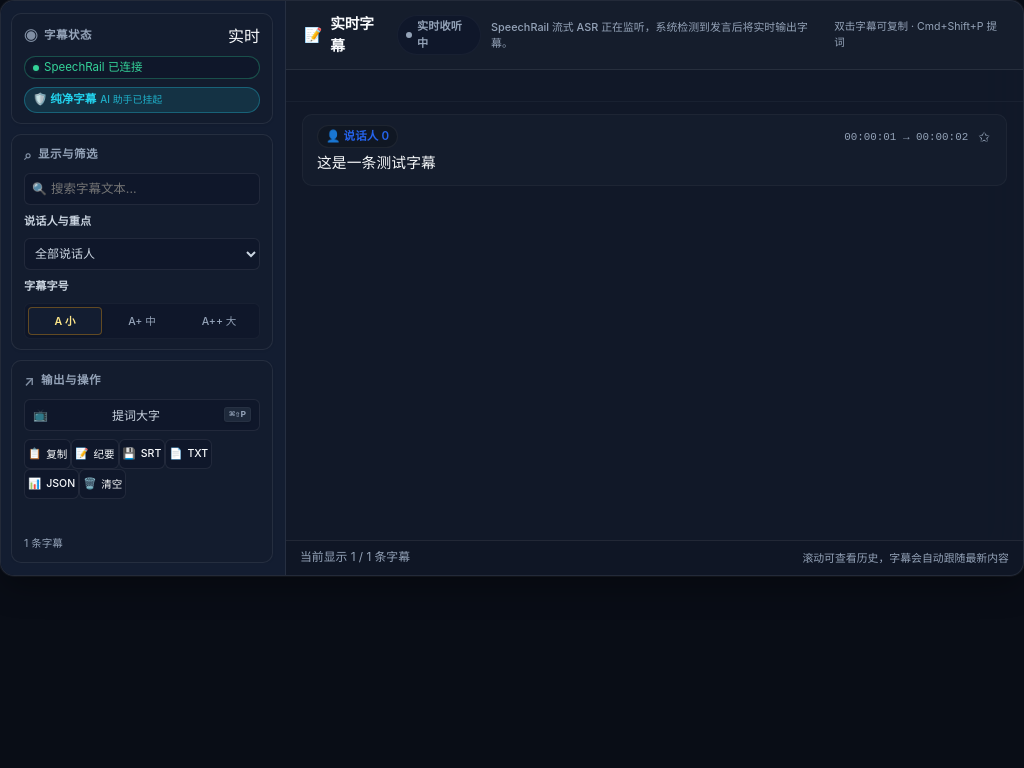
Test: SubtitleStream workspace layout › shows local feedback after starting an SRT download
The image size is (1024, 768).
What coordinates should you click on to do the following:
click the button "💾 SRT"
I would click on:
 (142, 454)
Its box is [119, 439, 165, 469].
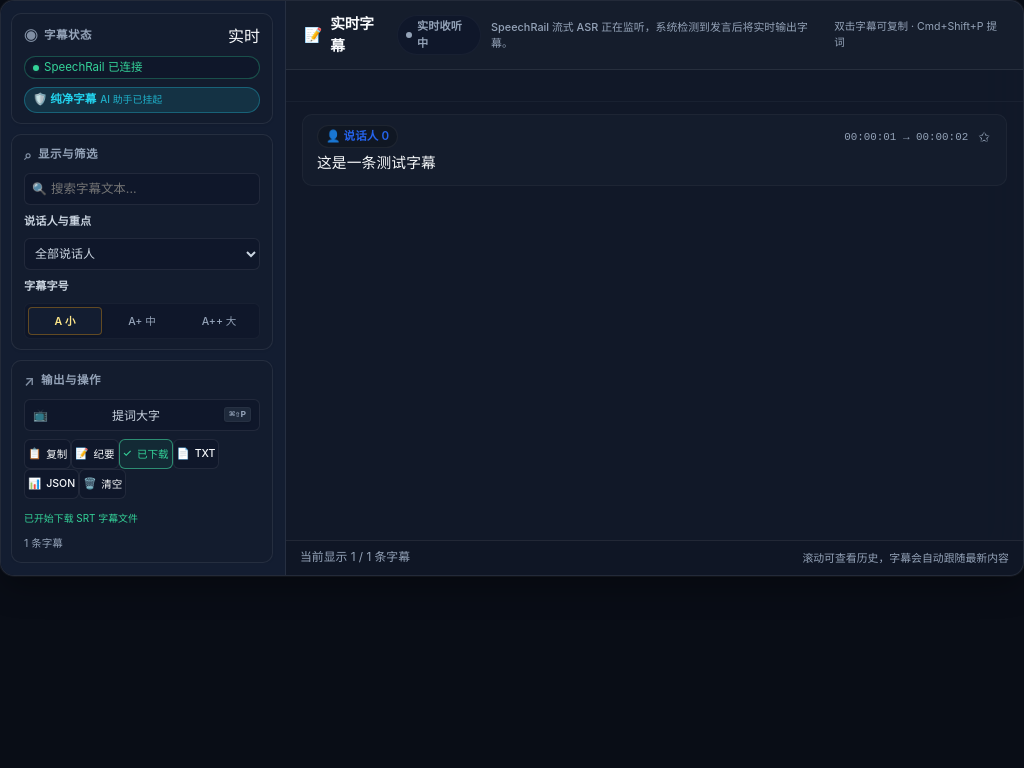
Result: the button "✓ 已下载" is shown at [119, 439, 173, 469]
